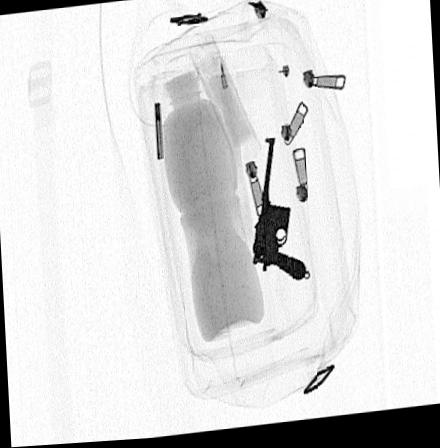Gun: (252, 140, 306, 287)
